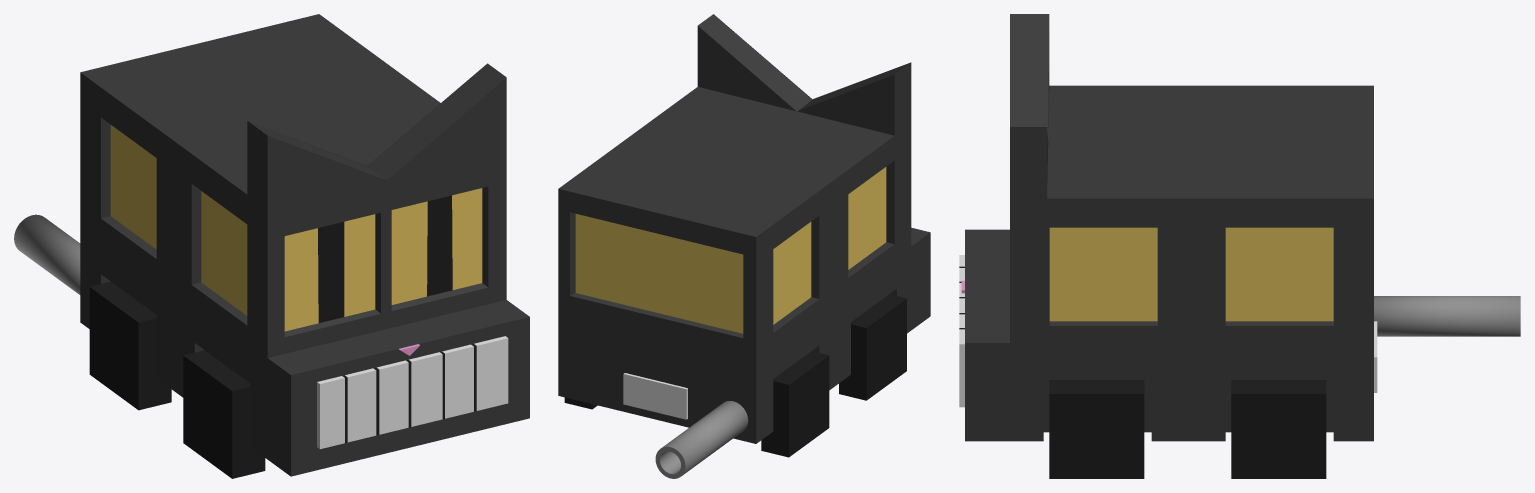
The model's file is kitty_car_black.fbx.
3 views of the same model, side by side, from view 1: azimuth 30°, elevation 25°; view 2: azimuth 150°, elevation 25°; view 3: azimuth 270°, elevation 25° (orthographic). The views are drawn at different scales.
Visible parts, largest first — view 1: Cube, Cube.004, Cube.003, Circle; view 2: Cube, Cube.004, Cube.003, Circle; view 3: Cube, Cube.001, Cube.002, Circle.
Part boxes in pixels (<box>): Cube: <box>80,14,529,476</box>; Cube.004: <box>89,281,171,410</box>; Cube.003: <box>183,350,265,478</box>; Circle: <box>14,214,80,294</box>; Cube: <box>558,14,930,443</box>; Cube.004: <box>761,351,829,457</box>; Cube.003: <box>839,294,906,400</box>; Circle: <box>655,401,748,478</box>; Cube: <box>959,14,1377,441</box>; Cube.001: <box>1231,380,1326,478</box>; Cube.002: <box>1049,380,1144,478</box>; Circle: <box>1374,296,1520,336</box>.
Bounding box in the file's own units: 561 × 701 × 1038.
